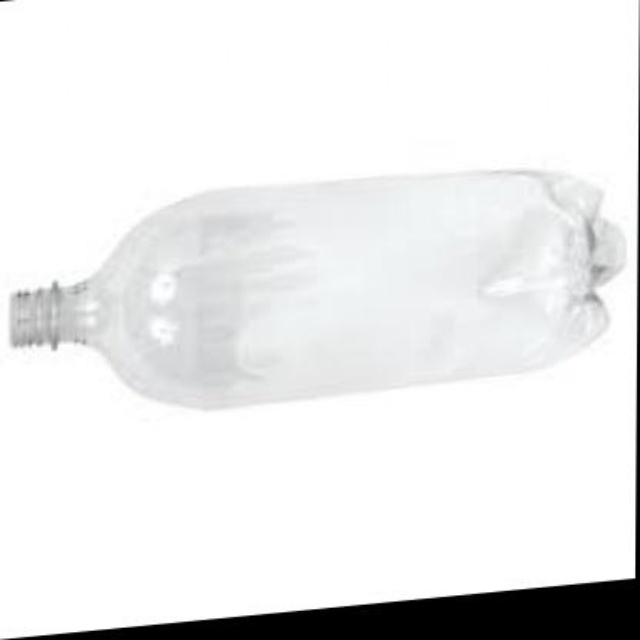trash: (11, 171, 623, 406)
